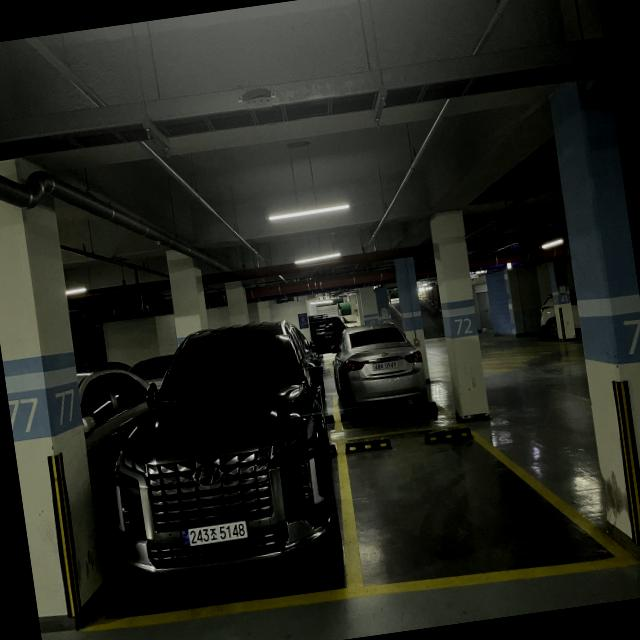car: (90, 310, 350, 600)
free: (341, 402, 561, 598)
